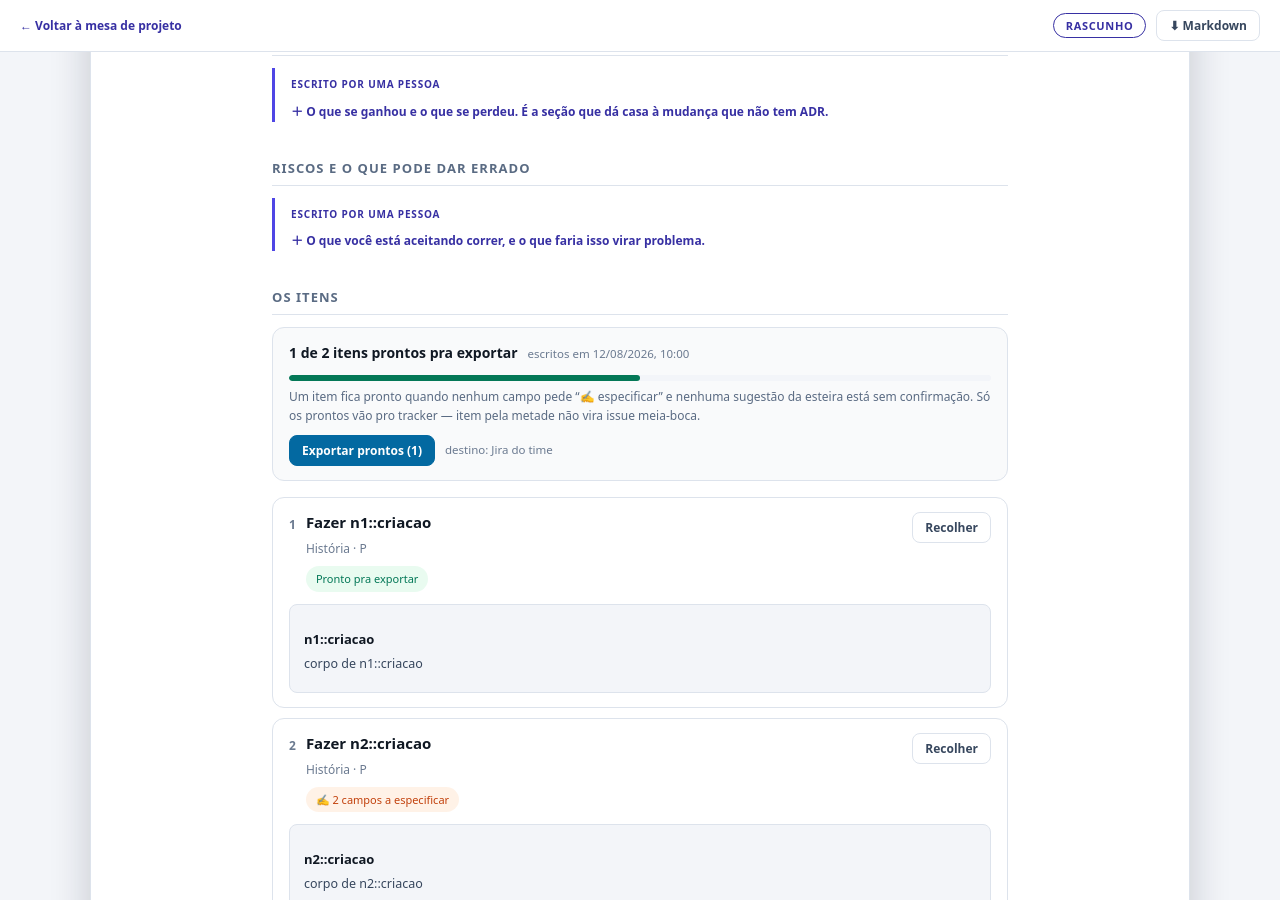
Test: a seção dos itens › SPEC-49 — exportar os PRONTOS veio junto com os cards, em vez de morrer com a tela
The width and height of the screenshot is (1280, 900).
(page scrolled)
expect the element with test id "itens-resumo" shows "1 de 2 itens prontos": met, box [272, 327, 1008, 481]
Click the button with test id "exportar-prontos" at x=362, y=450, box [289, 435, 435, 466]
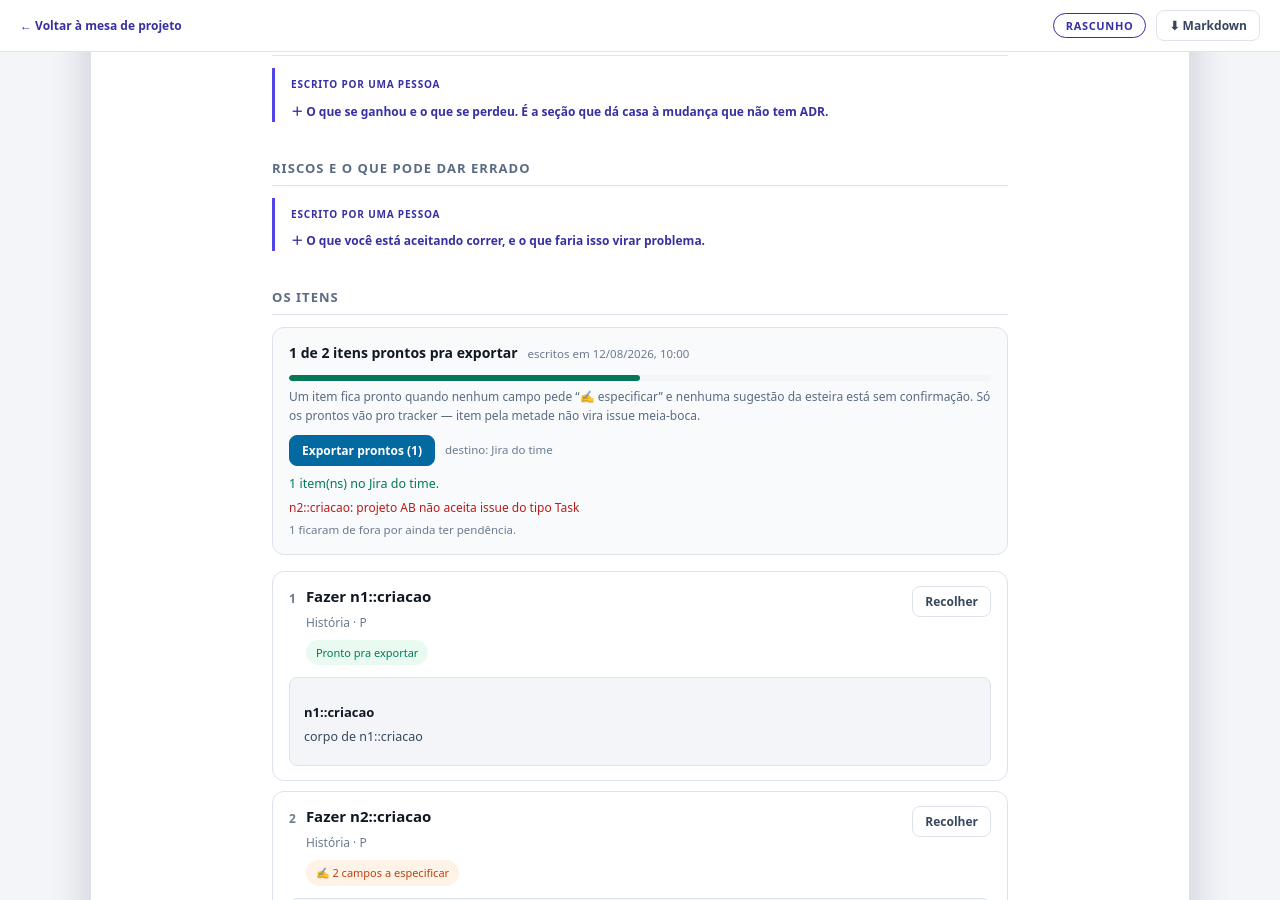
expect the element with test id "resultado-exportacao" shows "1 item(ns) no Jira do time": met, box [289, 475, 579, 537]
expect the element with test id "resultado-exportacao" shows "projeto AB não aceita": met, box [356, 499, 579, 516]
expect the element with test id "resultado-exportacao" shows "1 ficaram de fora": met, box [289, 475, 579, 537]
